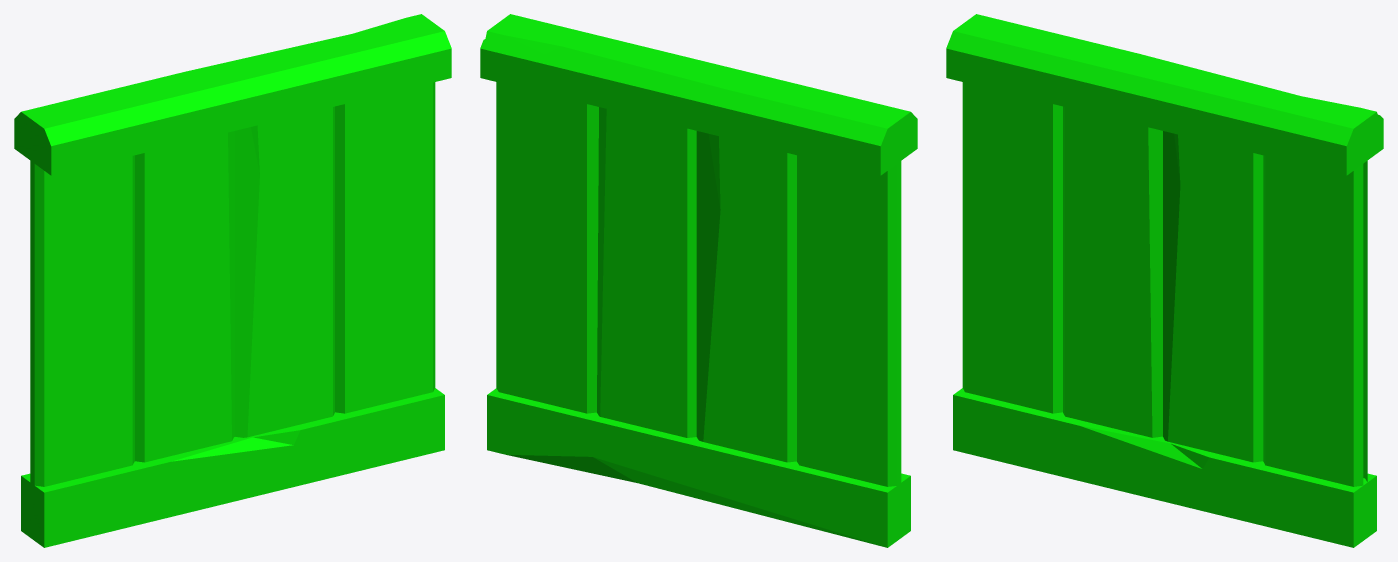
The model's file is SM_Railing_Wood_A_1m.fbx.
3 renders of one model, left to right at view 1: azimuth 30°, elevation 25°; view 2: azimuth 150°, elevation 25°; view 3: azimuth 330°, elevation 25°, orthographic.
Visible parts, largest first — view 1: railing-wood-a-1m; view 2: railing-wood-a-1m; view 3: railing-wood-a-1m.
Part boxes in pixels (x1=…): railing-wood-a-1m: x1=14, y1=14, x2=451, y2=547; railing-wood-a-1m: x1=480, y1=14, x2=917, y2=547; railing-wood-a-1m: x1=946, y1=14, x2=1383, y2=547.
Bounding box in the file's own units: 1 × 1 × 0.16.
